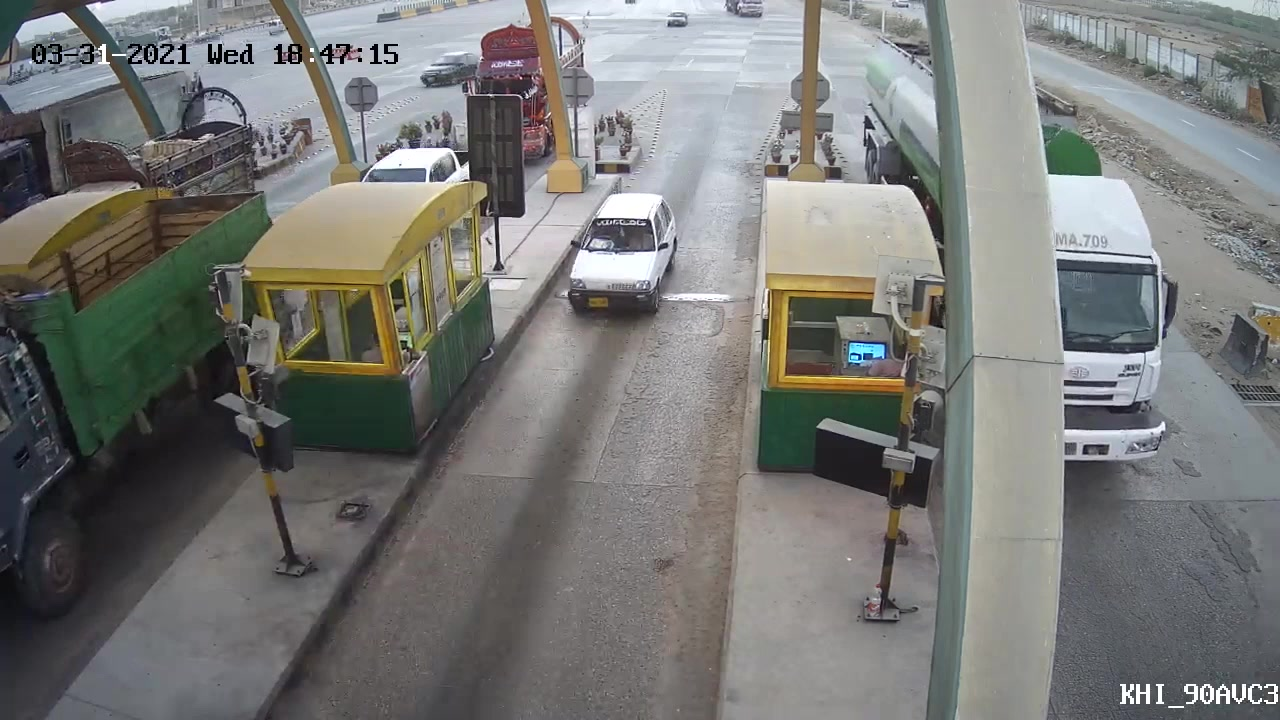F1: (557, 183, 698, 320)
